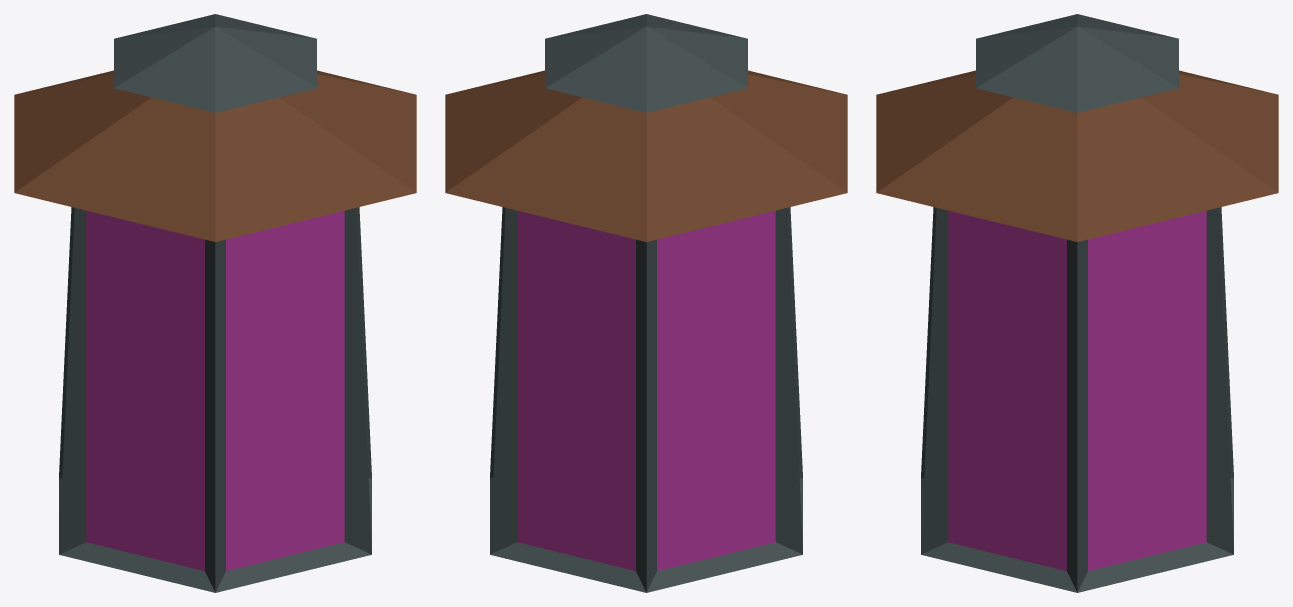
Rendered from Lamp_2_Purple.fbx.
The picture shows the model from 3 angles, left to right: view 1: azimuth 30°, elevation 25°; view 2: azimuth 150°, elevation 25°; view 3: azimuth 270°, elevation 25°; orthographic projection.
Parts seen in each view (by area): view 1: Lamp_2_Purple; view 2: Lamp_2_Purple; view 3: Lamp_2_Purple.
Boxes of the visible parts, x1=… form: Lamp_2_Purple: x1=14, y1=14, x2=416, y2=592; Lamp_2_Purple: x1=445, y1=14, x2=847, y2=592; Lamp_2_Purple: x1=876, y1=14, x2=1278, y2=592.
Size of the model in its own units: 57.59 by 66.99 by 49.88.
